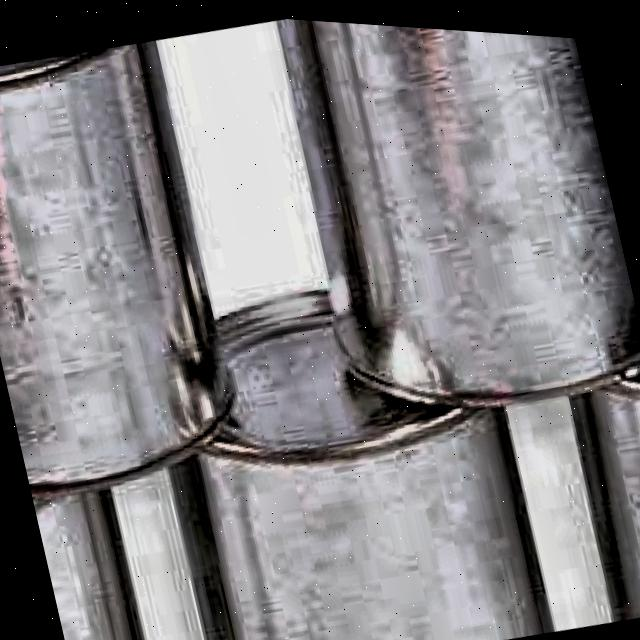metal: (108, 221, 564, 640), (256, 13, 640, 444), (0, 25, 270, 513), (500, 204, 640, 620)
